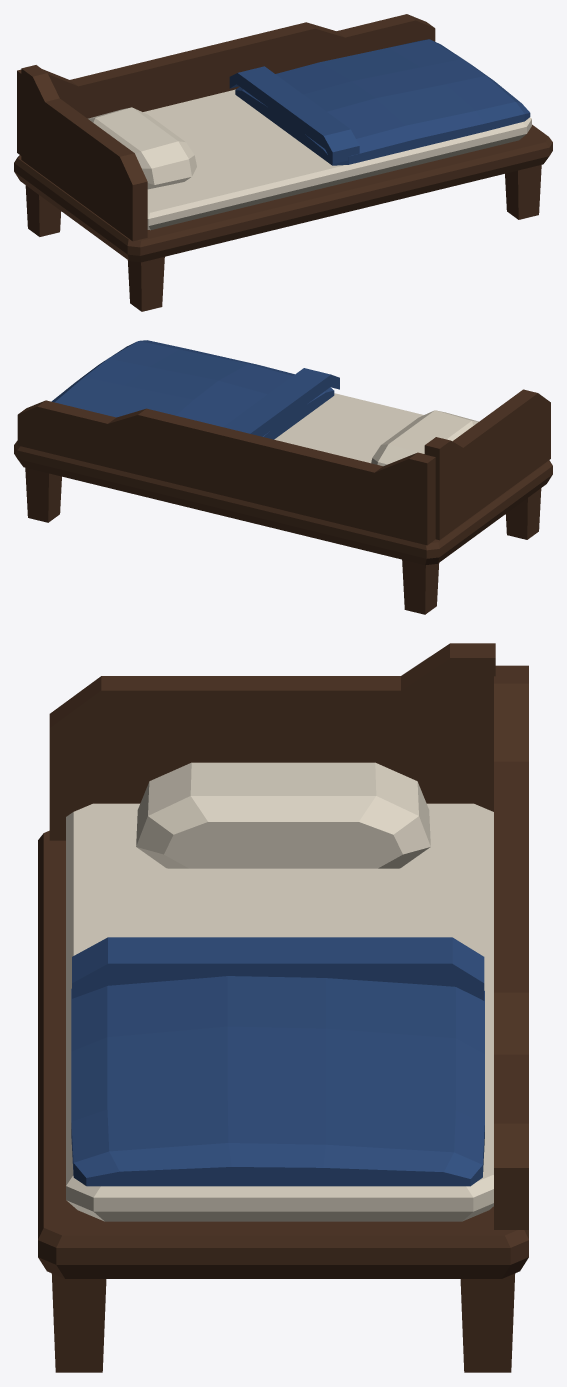
File: fn_bed.glb
3 renders of one model, top to bottom at view 1: azimuth 30°, elevation 25°; view 2: azimuth 150°, elevation 25°; view 3: azimuth 270°, elevation 25°, orthographic. The views are drawn at different scales.
Visible parts, largest first — view 1: fn_bed__wood_dark, fn_bed__cloth_blue, fn_bed__cloth_white; view 2: fn_bed__wood_dark, fn_bed__cloth_blue, fn_bed__cloth_white; view 3: fn_bed__wood_dark, fn_bed__cloth_blue, fn_bed__cloth_white.
Part boxes in pixels (left/top/right/bottom): fn_bed__wood_dark: left=14, top=14, right=552, bottom=311; fn_bed__cloth_blue: left=229, top=39, right=530, bottom=165; fn_bed__cloth_white: left=88, top=89, right=531, bottom=230; fn_bed__wood_dark: left=14, top=389, right=552, bottom=614; fn_bed__cloth_blue: left=51, top=340, right=339, bottom=439; fn_bed__cloth_white: left=274, top=393, right=478, bottom=466; fn_bed__wood_dark: left=38, top=643, right=528, bottom=1372; fn_bed__cloth_blue: left=71, top=937, right=484, bottom=1186; fn_bed__cloth_white: left=66, top=762, right=493, bottom=1221.
Size of the model in its own units: 24 by 8.93 by 12.
